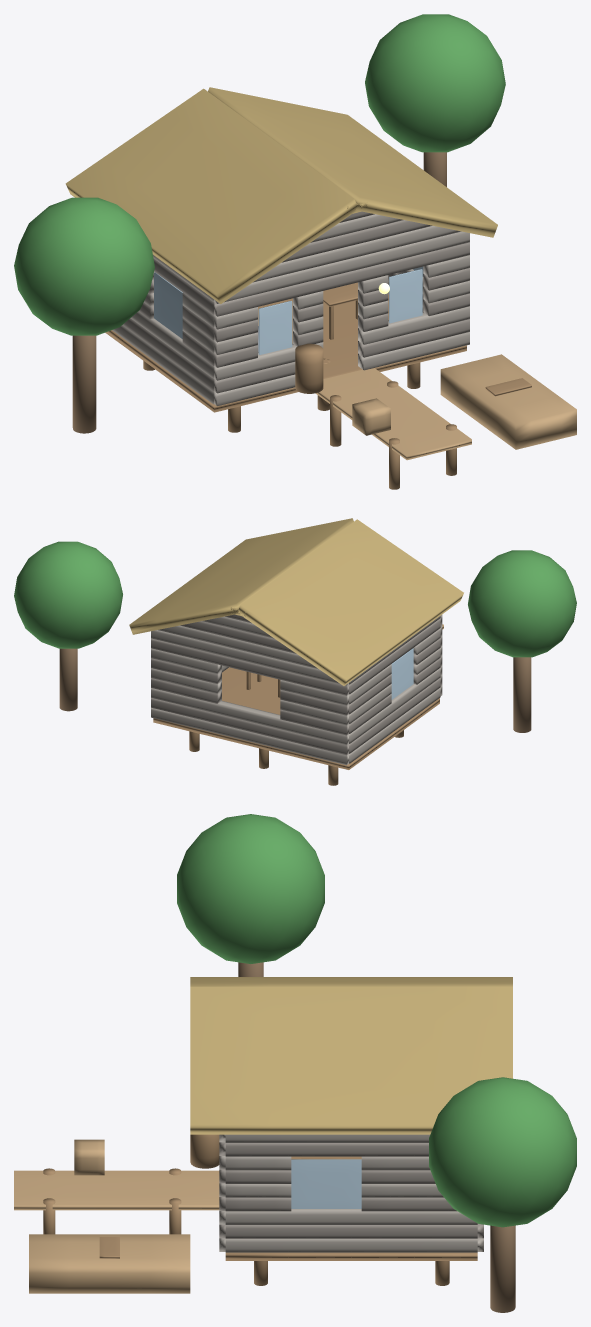
File: cabana_3_pescador_pilotes.glb
3 renders of one model, top to bottom at view 1: azimuth 30°, elevation 25°; view 2: azimuth 150°, elevation 25°; view 3: azimuth 270°, elevation 25°, orthographic. The views are drawn at different scales.
Visible parts, largest first — view 1: TechoIzq, Muro (×16), Arbol1_Copa, Arbol2_Copa, TechoDer, Barca, Muelle, Fronton (×3), Cristal (×3), Plataforma, Arbol1_Tronco, Barril (+3 smaller); view 2: Muro (×21), TechoIzq, Arbol2_Copa, Arbol1_Copa, TechoDer, Plataforma, Fronton (×3), Arbol1_Tronco, Arbol2_Tronco, Cristal; view 3: TechoDer, Muro (×13), Arbol2_Copa, Arbol1_Copa, Barca, Muelle, Cristal, TechoIzq, Plataforma, Arbol2_Tronco, Cajon, Barril.
Boxes of the visible parts, x1,y1,x2,y2 form: TechoIzq: (65, 88, 358, 303); Muro (×16): (112, 231, 469, 405); Arbol1_Copa: (14, 197, 154, 335); Arbol2_Copa: (365, 14, 505, 152); TechoDer: (208, 87, 497, 237); Barca: (440, 354, 576, 449); Muelle: (315, 368, 471, 460); Fronton (×3): (253, 214, 461, 282); Cristal (×3): (154, 269, 422, 354); Plataforma: (105, 294, 466, 412); Arbol1_Tronco: (72, 335, 96, 433); Barril: (295, 343, 323, 393); Muro (×21): (151, 618, 440, 765); TechoIzq: (238, 519, 463, 685); Arbol2_Copa: (14, 541, 122, 648); Arbol1_Copa: (468, 550, 576, 657); TechoDer: (129, 518, 353, 634); Plataforma: (153, 667, 439, 769); Fronton (×3): (158, 616, 318, 669); Arbol1_Tronco: (513, 657, 531, 732); Arbol2_Tronco: (59, 648, 77, 711); Cristal: (391, 648, 413, 699); TechoDer: (190, 986, 512, 1134); Muro (×13): (225, 1134, 477, 1252); Arbol2_Copa: (429, 1077, 576, 1227); Arbol1_Copa: (177, 814, 324, 963); Barca: (29, 1234, 190, 1293); Muelle: (14, 1170, 219, 1210); Cristal: (291, 1159, 361, 1208); TechoIzq: (190, 977, 512, 986); Plataforma: (225, 1156, 477, 1260); Arbol2_Tronco: (490, 1225, 515, 1312); Cajon: (74, 1139, 104, 1175); Barril: (190, 1134, 219, 1168).
Size of what is drawn, in the model's own units: 0.6257 by 0.2717 by 0.484.
